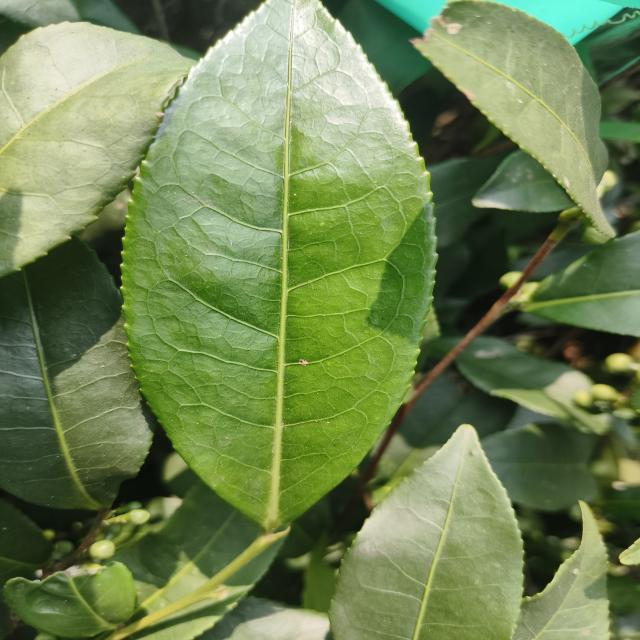Leaf: (123, 0, 435, 529), (0, 22, 191, 276), (414, 0, 612, 236), (329, 425, 523, 640), (0, 239, 151, 509), (113, 481, 260, 624), (126, 541, 281, 640), (455, 336, 608, 434), (376, 373, 515, 480), (513, 502, 609, 640), (524, 232, 640, 337), (482, 423, 598, 511), (4, 562, 136, 638), (426, 152, 506, 252), (472, 150, 574, 213)
